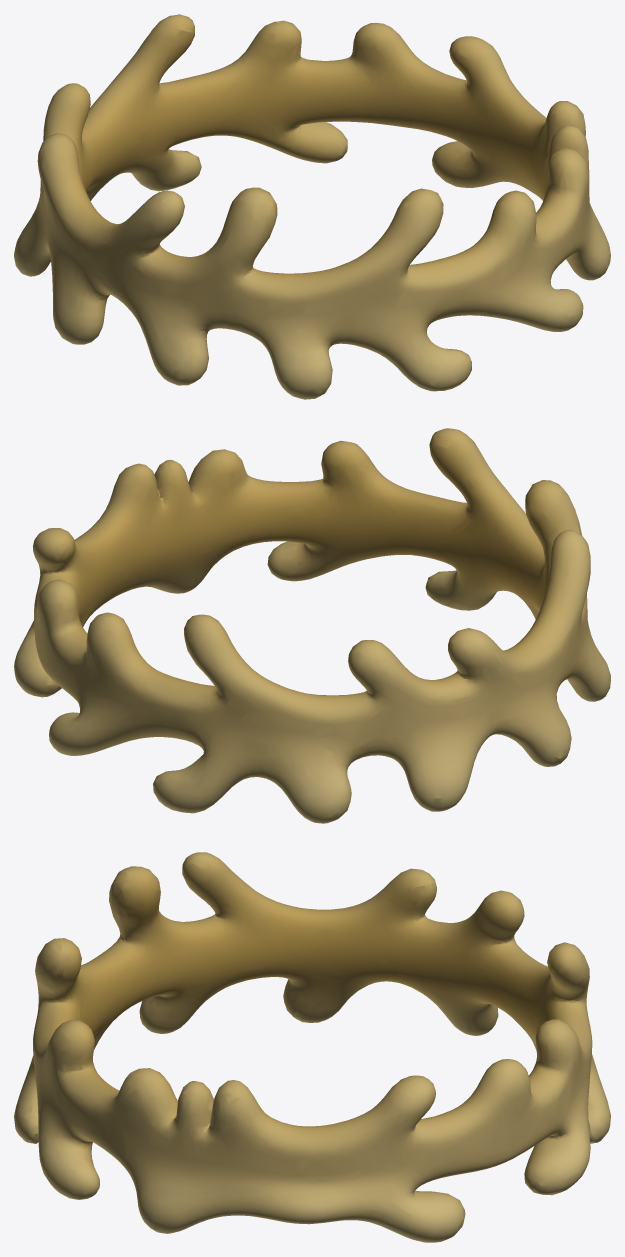
File: anillo_5_ia.glb
3 renders of one model, top to bottom at view 1: azimuth 30°, elevation 25°; view 2: azimuth 150°, elevation 25°; view 3: azimuth 270°, elevation 25°, orthographic. The views are drawn at different scales.
Visible parts, largest first — view 1: model; view 2: model; view 3: model.
Part boxes in pixels (x1,y1,x2,y2): model: (14,14,610,399); model: (14,428,610,823); model: (14,852,610,1242).
Bounding box in the file's own units: 1.9 × 0.6976 × 1.88.
